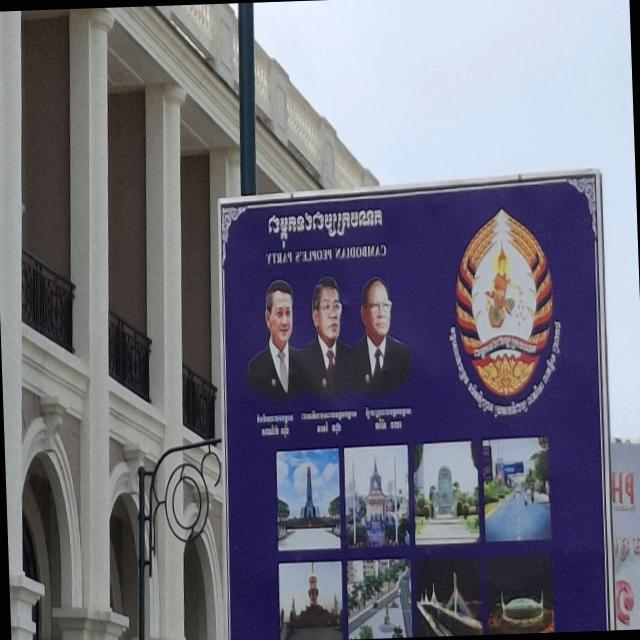Yolov11kh: (258, 201, 393, 254)
